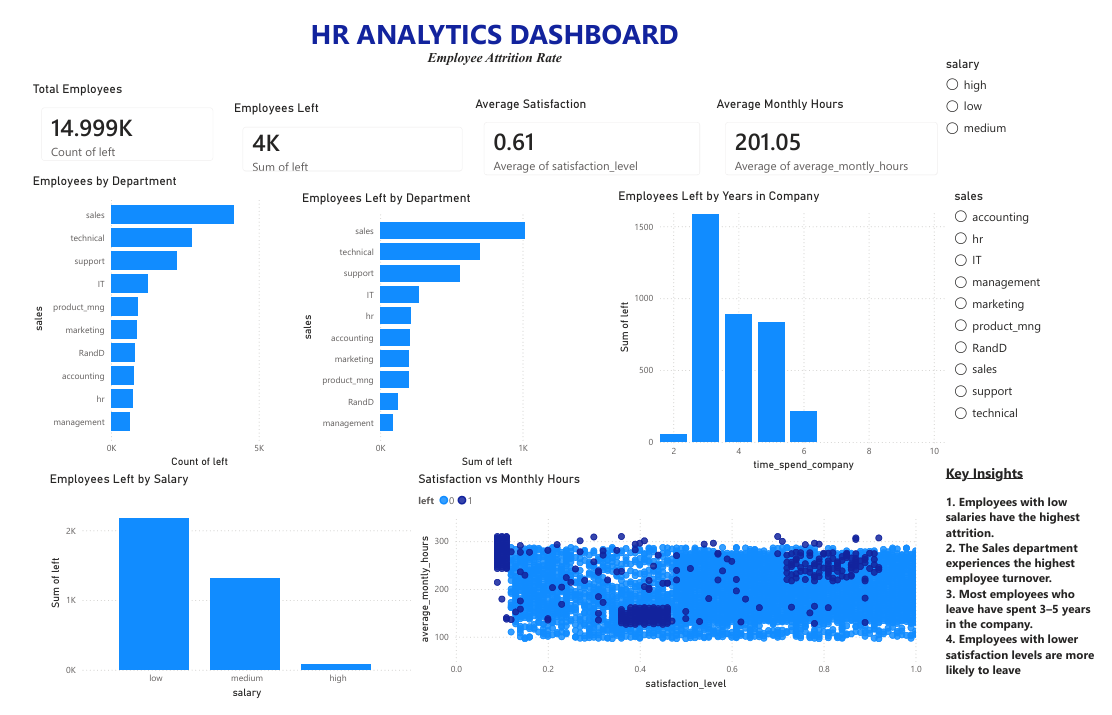

The dashboard page shown, as its layout file describes it:
{"tool":"powerbi","page":{"name":"Page 1","canvas":[1500,950],"ordinal":0},"visuals":[{"type":"clusteredBarChart","title":"Employees by Department","fields":{"Category":["HR_comma_sep.sales"],"Y":["CountNonNull(HR_comma_sep.left)"]},"box":[0,223.3,368.3,410],"z":0},{"type":"clusteredBarChart","title":"Employees Left by Department","fields":{"Category":["HR_comma_sep.sales"],"Y":["Sum(HR_comma_sep.left)"]},"box":[370,246.7,418.3,386.7],"z":1000},{"type":"clusteredColumnChart","title":"Employees Left by Salary","fields":{"Category":["HR_comma_sep.salary"],"Y":["Sum(HR_comma_sep.left)"]},"box":[23.3,633.3,506.7,316.7],"z":2000},{"type":"scatterChart","title":"Satisfaction vs Monthly Hours","fields":{"Series":["HR_comma_sep.left"],"X":["HR_comma_sep.satisfaction_level"],"Y":["HR_comma_sep.average_montly_hours"]},"box":[530,633.3,701.7,303.3],"z":3000},{"type":"clusteredColumnChart","title":"Employees Left by Years in Company","fields":{"Category":["HR_comma_sep.time_spend_company"],"Y":["Sum(HR_comma_sep.left)"]},"box":[805,243.3,461.7,393.3],"z":4000},{"type":"cardVisual","title":"Total Employees","fields":{"Data":["CountNonNull(HR_comma_sep.left)"]},"box":[0,96.7,270,126.7],"z":5000},{"type":"cardVisual","title":"Employees Left","fields":{"Data":["Sum(HR_comma_sep.left)"]},"box":[276.7,123.3,336.7,115],"z":6000},{"type":"cardVisual","title":"Average Satisfaction","fields":{"Data":["Avg(HR_comma_sep.satisfaction_level)"]},"box":[608.3,116.7,331.7,126.7],"z":7000},{"type":"cardVisual","title":"Average Monthly Hours","fields":{"Data":["Avg(HR_comma_sep.average_montly_hours)"]},"box":[940,116.7,326.7,126.7],"z":8000},{"type":"textbox","box":[0,0,1280,61.7],"z":9000},{"type":"textbox","box":[0,48.3,1280,48.3],"z":10000},{"type":"listSlicer","fields":{"Values":["HR_comma_sep.salary"]},"box":[1255,61.7,223.3,176.7],"z":10001},{"type":"listSlicer","fields":{"Values":["HR_comma_sep.sales"]},"box":[1266.7,243.3,211.7,356.7],"z":10002},{"type":"textbox","box":[1255,616.7,223.3,320],"z":10003}]}

Visuals, with their boxes in screenshot pixels (x1, y1, x2, y2), scaled from the page's 1500x950 canvas onto the 1112x715 screenshot:
"Employees by Department" clusteredBarChart: 0,168,273,477
"Employees Left by Department" clusteredBarChart: 274,186,584,477
"Employees Left by Salary" clusteredColumnChart: 17,477,393,714
"Satisfaction vs Monthly Hours" scatterChart: 393,477,913,705
"Employees Left by Years in Company" clusteredColumnChart: 597,183,939,479
"Total Employees" cardVisual: 0,73,200,168
"Employees Left" cardVisual: 205,93,455,179
"Average Satisfaction" cardVisual: 451,88,697,183
"Average Monthly Hours" cardVisual: 697,88,939,183
textbox: 0,0,949,46
textbox: 0,36,949,73
listSlicer - HR_comma_sep.salary: 930,46,1096,179
listSlicer - HR_comma_sep.sales: 939,183,1096,452
textbox: 930,464,1096,705
